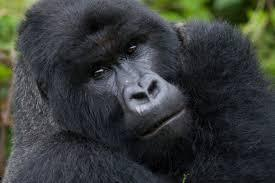goriile_montagne: (1, 0, 275, 181)
